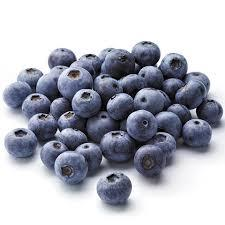bluebarry: (2, 39, 223, 205), (96, 170, 132, 205), (3, 127, 37, 158)
